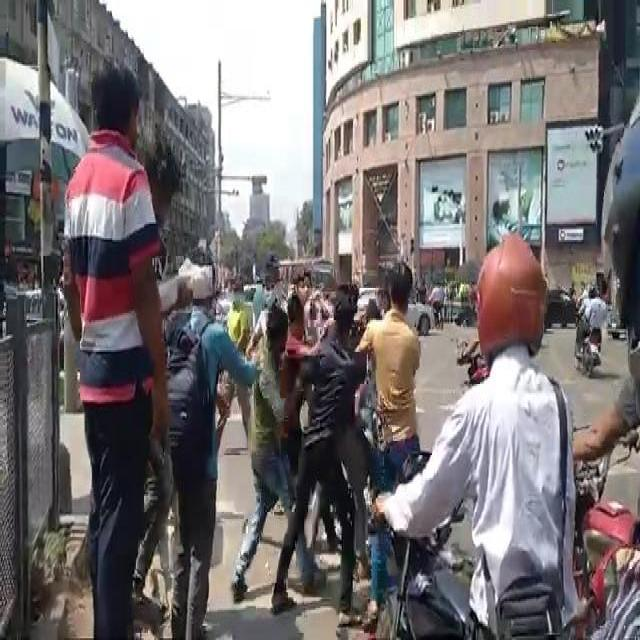fight: (62, 53, 246, 631), (240, 263, 425, 606), (428, 259, 593, 640)
